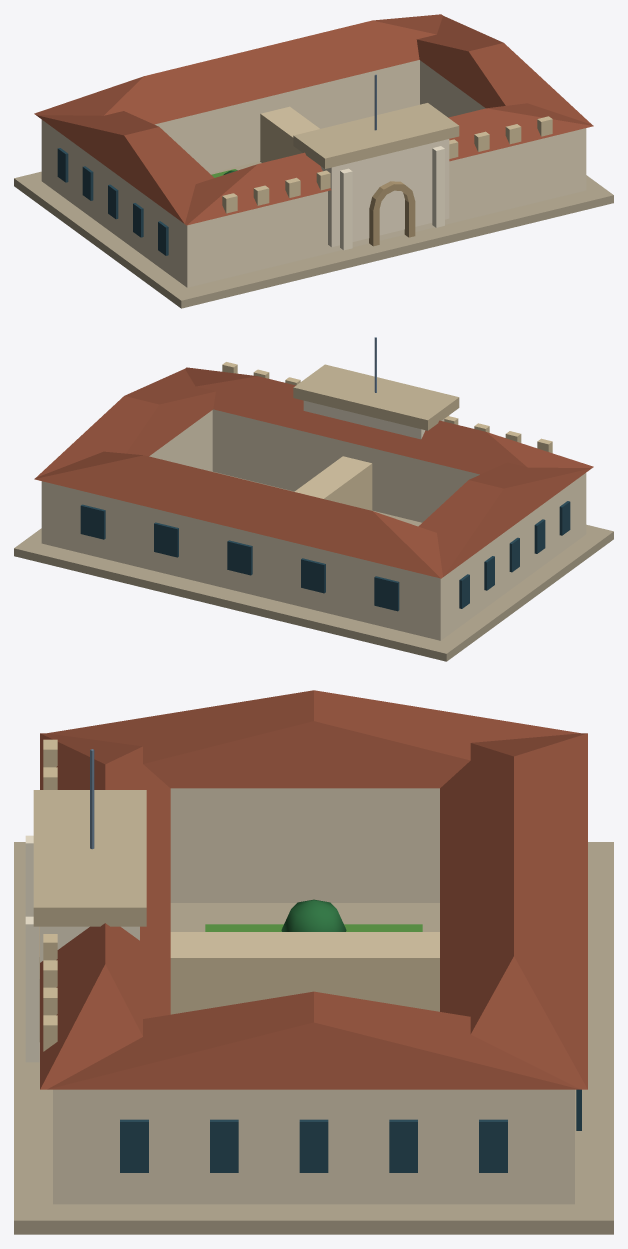
Rendered from la-moneda.glb.
The picture shows the model from 3 angles, top to bottom: view 1: azimuth 30°, elevation 25°; view 2: azimuth 150°, elevation 25°; view 3: azimuth 270°, elevation 25°; orthographic projection. The views are drawn at different scales.
Parts seen in each view (by area): view 1: roof_A28A6E, body_E2DBCA, base_B8B49D, body_EBE4D3, body_CDC3AF, detail_D0C7B3, body_DFD8C7, body_EFE9D9, detail_6B6A5B, body_C5BBA5; view 2: roof_A28A6E, body_E2DBCA, base_B8B49D, body_CDC3AF, detail_6B6A5B, body_DFD8C7, body_EBE4D3, detail_D0C7B3; view 3: roof_A28A6E, body_E2DBCA, base_B8B49D, body_DFD8C7, body_CDC3AF, detail_6B6A5B, body_EFE9D9, detail_D0C7B3, courtyard, courtyard_7F996B, body_EBE4D3.
Boxes of the visible parts, x1,y1,x2,y2 form: roof_A28A6E: (34, 14, 593, 225); body_E2DBCA: (41, 60, 586, 287); base_B8B49D: (14, 161, 613, 308); body_EBE4D3: (320, 139, 449, 247); body_CDC3AF: (293, 103, 459, 168); detail_D0C7B3: (222, 116, 552, 213); body_DFD8C7: (260, 106, 319, 162); body_EFE9D9: (340, 146, 444, 250); detail_6B6A5B: (57, 148, 168, 255); body_C5BBA5: (369, 181, 415, 246); roof_A28A6E: (34, 367, 593, 578); body_E2DBCA: (41, 409, 586, 640); base_B8B49D: (14, 471, 613, 661); body_CDC3AF: (293, 364, 459, 430); detail_6B6A5B: (80, 501, 570, 611); body_DFD8C7: (294, 456, 372, 510); body_EBE4D3: (303, 400, 449, 439); detail_D0C7B3: (222, 362, 552, 453); roof_A28A6E: (40, 690, 587, 1089); body_E2DBCA: (53, 788, 574, 1204); base_B8B49D: (14, 842, 613, 1234); body_DFD8C7: (170, 932, 439, 1014); body_CDC3AF: (33, 790, 146, 926); detail_6B6A5B: (120, 1089, 581, 1172); body_EFE9D9: (25, 835, 39, 1062); detail_D0C7B3: (43, 739, 57, 1051); courtyard: (281, 899, 346, 931); courtyard_7F996B: (205, 924, 422, 931); body_EBE4D3: (40, 926, 139, 962).
Size of the model in its own units: 1 by 0.3641 by 0.6699.
